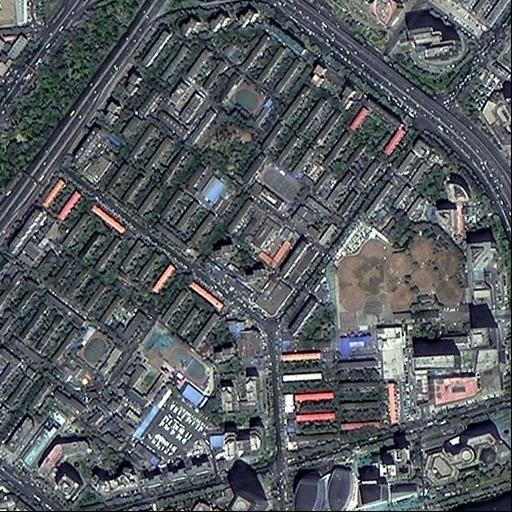school: (109, 318, 222, 409), (68, 323, 126, 377), (217, 71, 268, 116)
